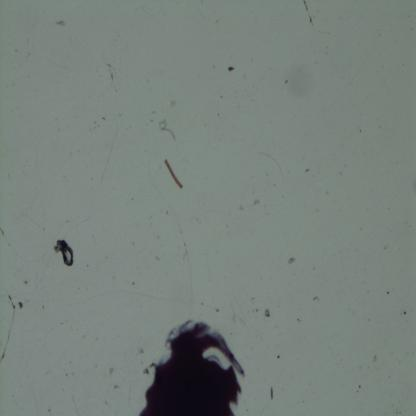Air bubble: (52, 241, 76, 265)
Background material: (297, 0, 315, 28), (159, 119, 177, 140), (104, 61, 118, 85), (94, 115, 107, 128), (224, 65, 239, 75), (397, 306, 408, 318), (246, 307, 260, 316), (262, 308, 271, 318), (252, 197, 262, 206), (56, 18, 67, 26), (22, 277, 30, 287), (286, 257, 296, 265), (170, 100, 179, 108), (372, 354, 378, 365), (237, 204, 245, 212), (16, 300, 24, 308), (108, 366, 114, 375), (313, 296, 320, 302), (276, 352, 281, 360), (296, 318, 302, 324), (214, 307, 219, 314), (385, 291, 390, 296), (358, 384, 362, 390)
Diatom: (270, 386, 274, 400)
Glass filter fibre: (0, 285, 15, 360), (260, 150, 284, 181)
Microfibre: (164, 156, 184, 189)
Pen: (138, 315, 249, 416)
